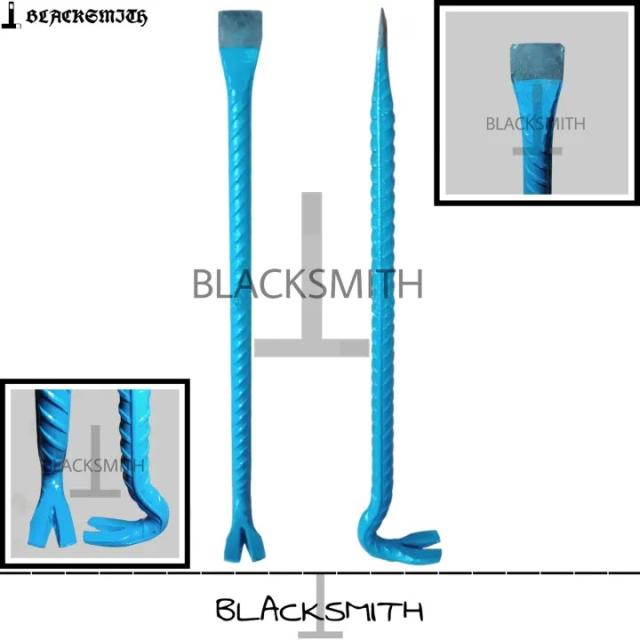Linggis: (215, 6, 271, 564)
